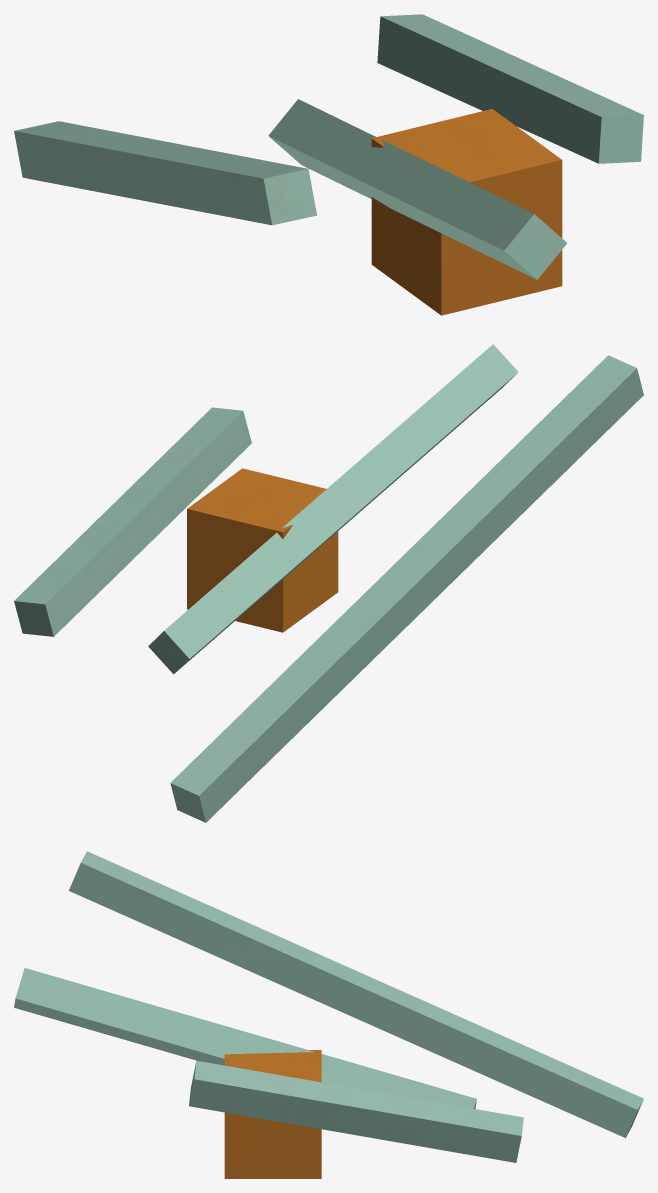
Rendered from fork_shards_01.glb.
3 views of the same model, one above another, from view 1: azimuth 30°, elevation 25°; view 2: azimuth 150°, elevation 25°; view 3: azimuth 270°, elevation 25° (orthographic). The views are drawn at different scales.
Parts seen in each view (by area): view 1: fork_shards_01; view 2: fork_shards_01; view 3: fork_shards_01.
Part boxes in pixels (x1,y1,x2,y2): fork_shards_01: [14, 14, 643, 315]; fork_shards_01: [14, 344, 643, 822]; fork_shards_01: [14, 851, 643, 1178].
Size of the model in its own units: 1.37 by 0.9018 by 2.27.
Materials: 2 (2 with a texture image).
